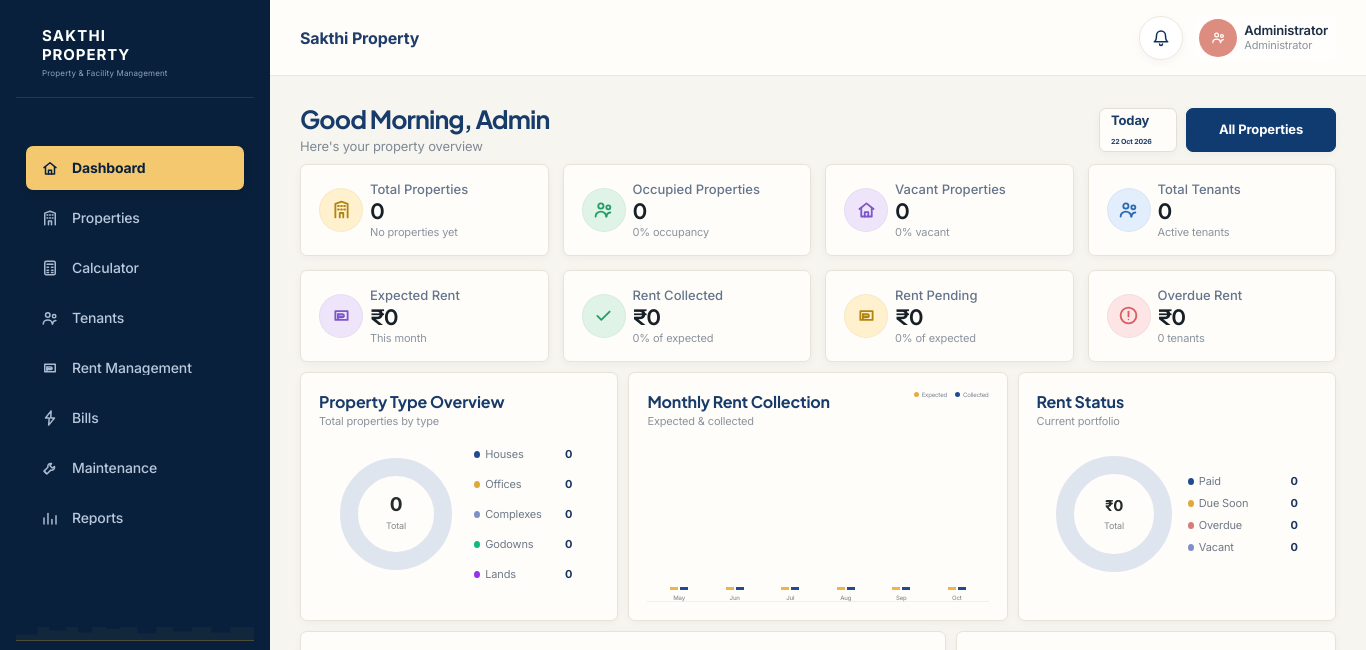
it: Add Property shows land dimensions without embedding the calculator
Click the button "Properties" at (135, 218), box [26,196,244,240]
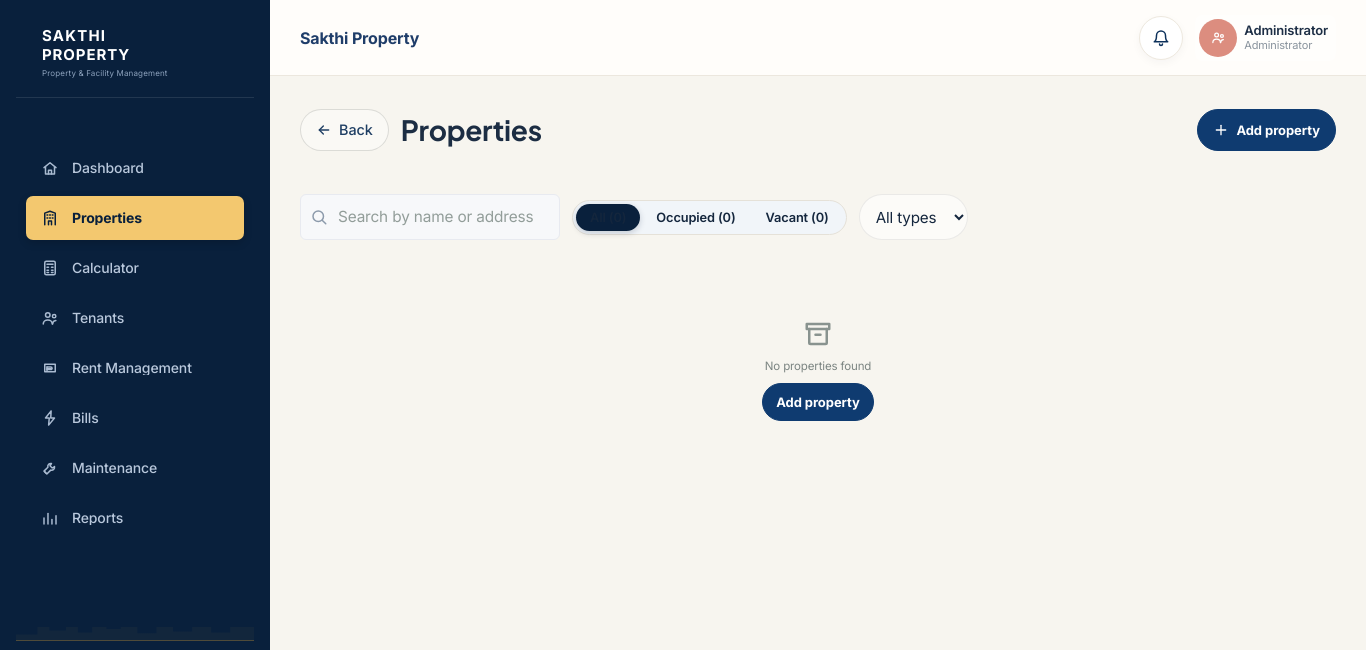
Click the 1st button "Add property" at (1267, 130), box [1197,109,1336,151]
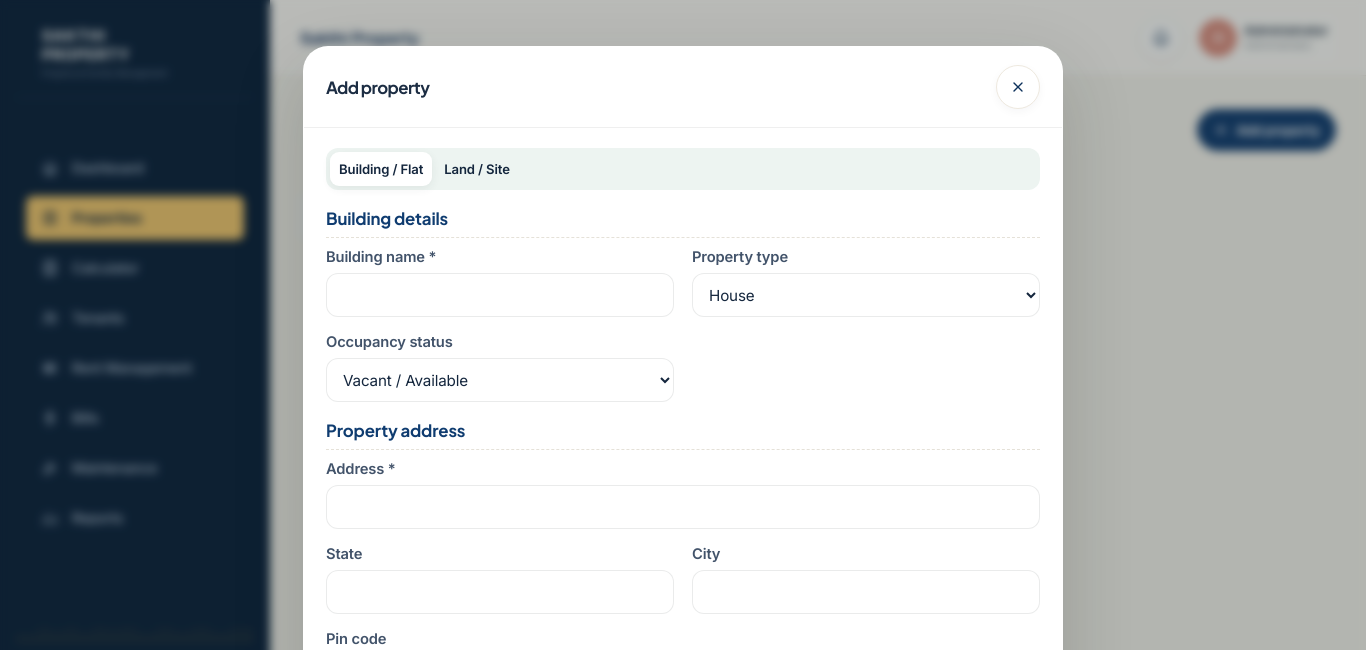
Click the button "Land / Site" at (477, 169), box [435,152,519,186]
(page scrolled)
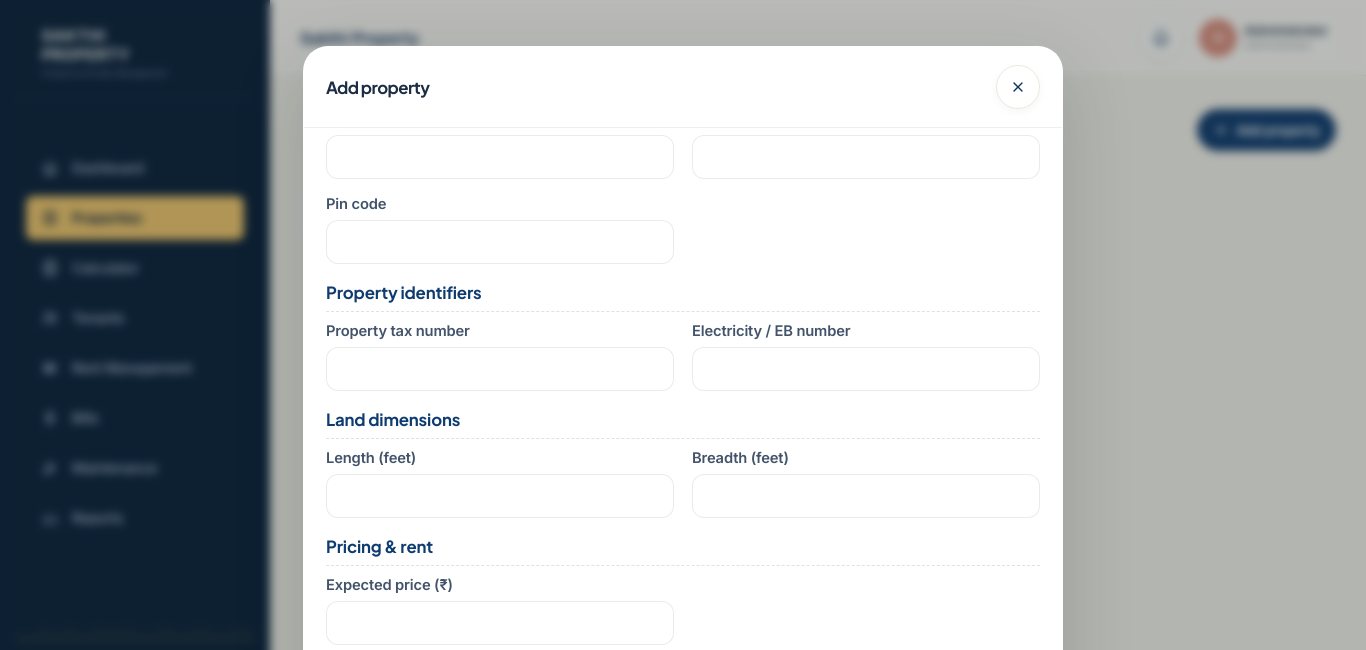
expect the heading "Land dimensions" is shown: met, box [326,409,1040,439]
